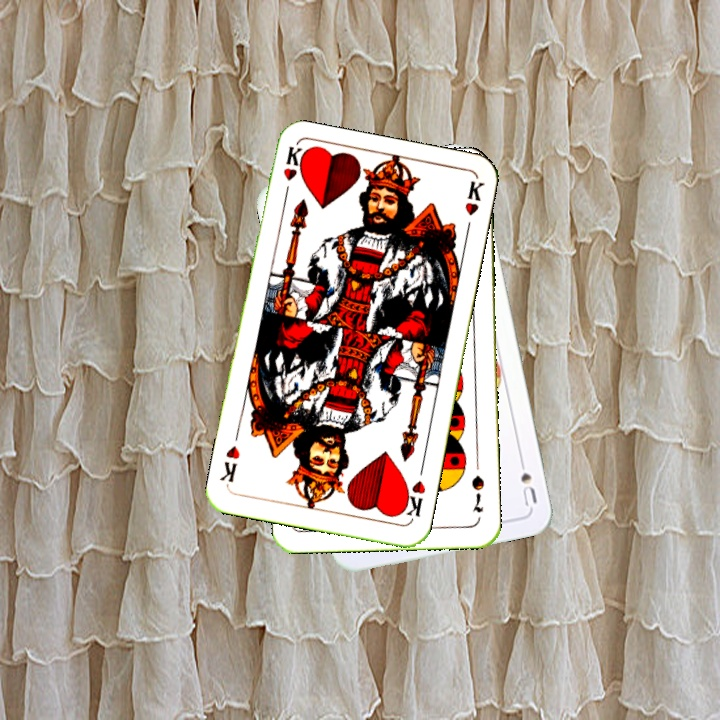HK: (279, 143, 305, 203), (397, 477, 428, 523)
S7: (467, 471, 487, 515)
SU: (515, 451, 540, 509)
